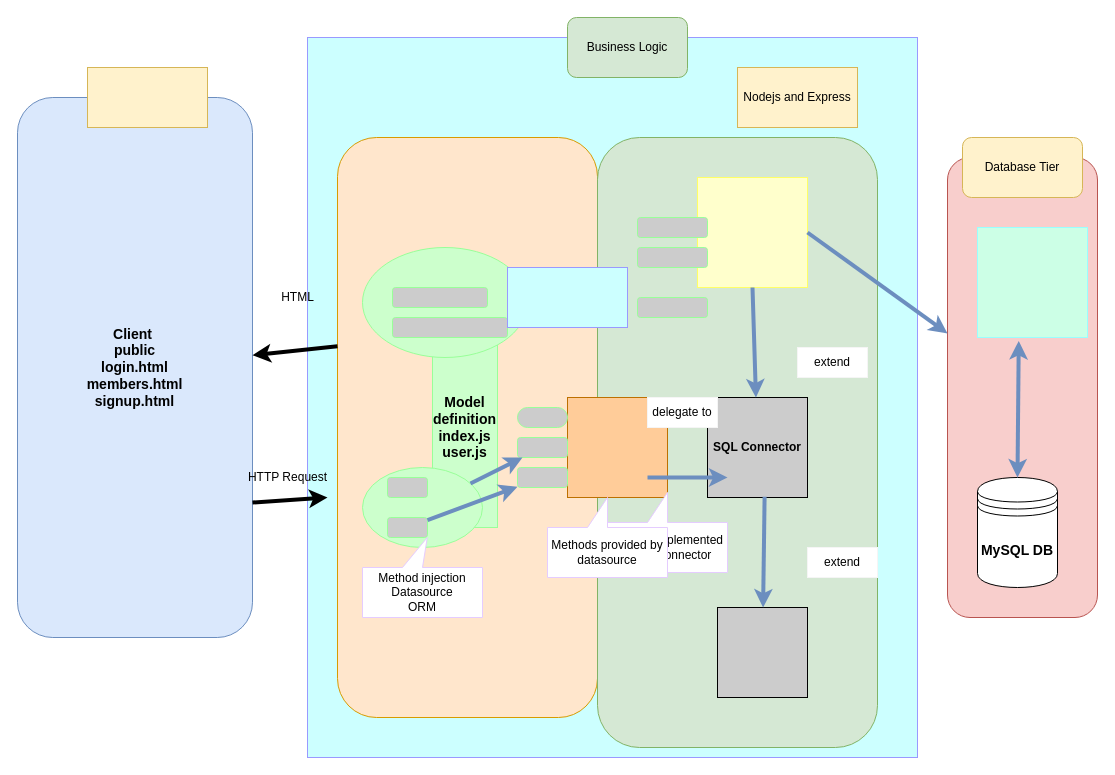
Image size: 1115x775. Some labels were removed from this diagram. The shapes that lost their labels are listed below. From the top down, each one's centre as x and y in pixels, then its label:
(x=147, y=97): Client Tier
(x=752, y=232): MySQL Connector
(x=440, y=297): Routes
(x=1032, y=282): MySQL Driver
(x=450, y=327): Routers
(x=617, y=447): DataSource
(x=762, y=652): Connector
